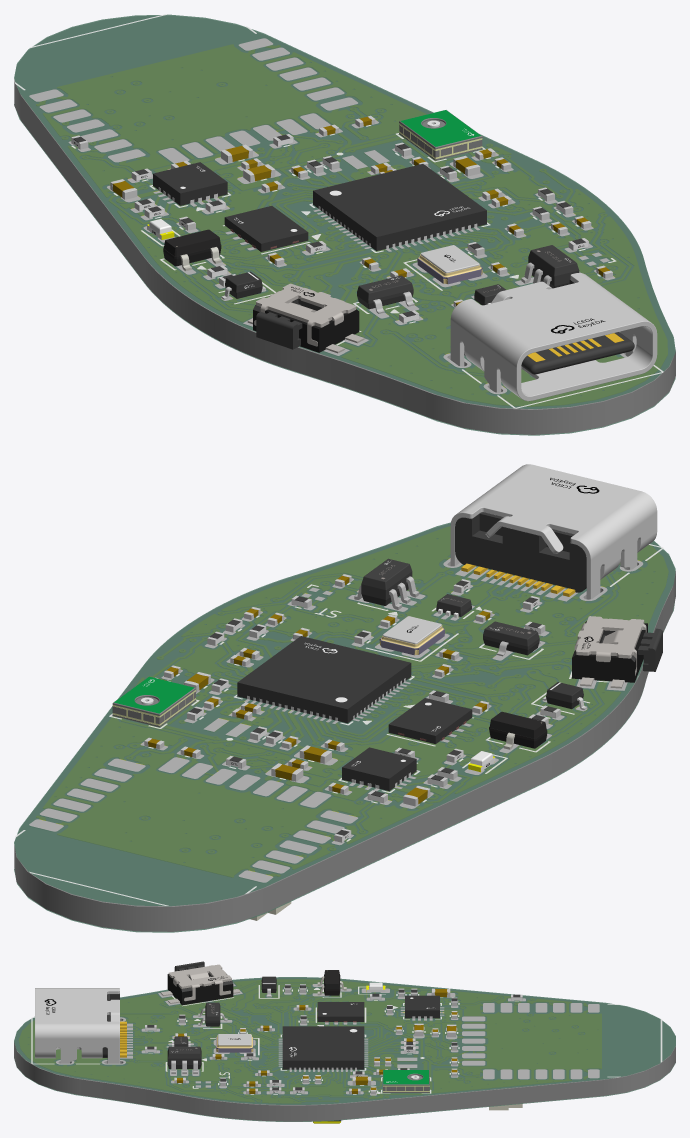
The model's file is board.glb.
3 renders of one model, top to bottom at view 1: azimuth 30°, elevation 25°; view 2: azimuth 150°, elevation 25°; view 3: azimuth 270°, elevation 25°, orthographic. The views are drawn at different scales.
Parts seen in each view (by area): view 1: =>[0:1:1:28], =>[0:1:1:23], =>[0:1:1:30], J1, =>[0:1:1:24], U1, SW1, U40, U6, U2, =>[0:1:1:26], Y1 (+5 smaller); view 2: =>[0:1:1:28], =>[0:1:1:23], =>[0:1:1:30], J1, =>[0:1:1:24], U1, SW1, U40, U6, U2, U11, =>[0:1:1:26] (+5 smaller); view 3: =>[0:1:1:28], =>[0:1:1:23], =>[0:1:1:30], J1, =>[0:1:1:24], U1, SW1, =>[0:1:1:26], U40, U6, U11, U2 (+5 smaller).
Boxes of the visible parts, <box> form: =>[0:1:1:28]: <box>14,14,675,409</box>; =>[0:1:1:23]: <box>36,45,667,406</box>; =>[0:1:1:30]: <box>14,16,675,434</box>; J1: <box>450,273,657,401</box>; =>[0:1:1:24]: <box>29,38,627,394</box>; U1: <box>313,164,486,250</box>; SW1: <box>247,283,364,353</box>; U40: <box>399,110,482,160</box>; U6: <box>224,206,308,251</box>; U2: <box>153,162,227,205</box>; =>[0:1:1:26]: <box>15,14,663,408</box>; Y1: <box>417,245,482,284</box>; =>[0:1:1:28]: <box>14,522,675,906</box>; =>[0:1:1:23]: <box>36,527,667,876</box>; =>[0:1:1:30]: <box>14,524,675,931</box>; J1: <box>450,464,657,599</box>; =>[0:1:1:24]: <box>29,558,643,882</box>; U1: <box>237,636,411,723</box>; SW1: <box>572,616,662,688</box>; U40: <box>112,676,195,727</box>; U6: <box>388,698,472,743</box>; U2: <box>342,747,416,790</box>; U11: <box>354,558,419,609</box>; =>[0:1:1:26]: <box>15,544,663,905</box>; =>[0:1:1:28]: <box>14,977,675,1104</box>; =>[0:1:1:23]: <box>19,979,601,1102</box>; =>[0:1:1:30]: <box>14,978,675,1121</box>; J1: <box>35,988,126,1063</box>; =>[0:1:1:24]: <box>56,983,599,1095</box>; U1: <box>282,1026,364,1069</box>; SW1: <box>160,961,239,1005</box>; =>[0:1:1:26]: <box>31,981,662,1094</box>; U40: <box>383,1070,429,1092</box>; U6: <box>317,1002,364,1022</box>; U11: <box>167,1046,201,1073</box>; U2: <box>405,995,439,1018</box>.
Size of the model in its own units: 0.026 by 0.00925 by 0.0568.
